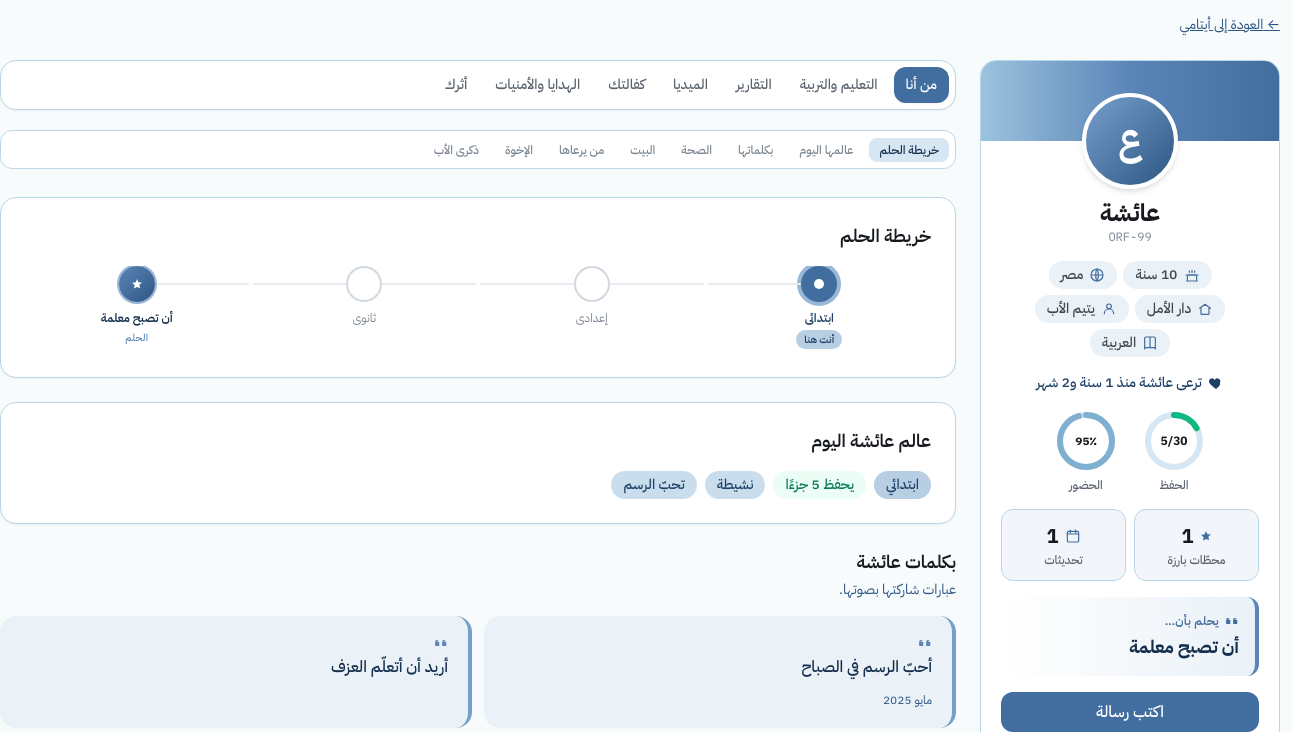
Test case: DonorOrphanDetailPage — composed donor profile › renders recent updates with the timeline link in the reports tab
Click the tab "التقارير" at [754, 85], box [724, 67, 784, 103]
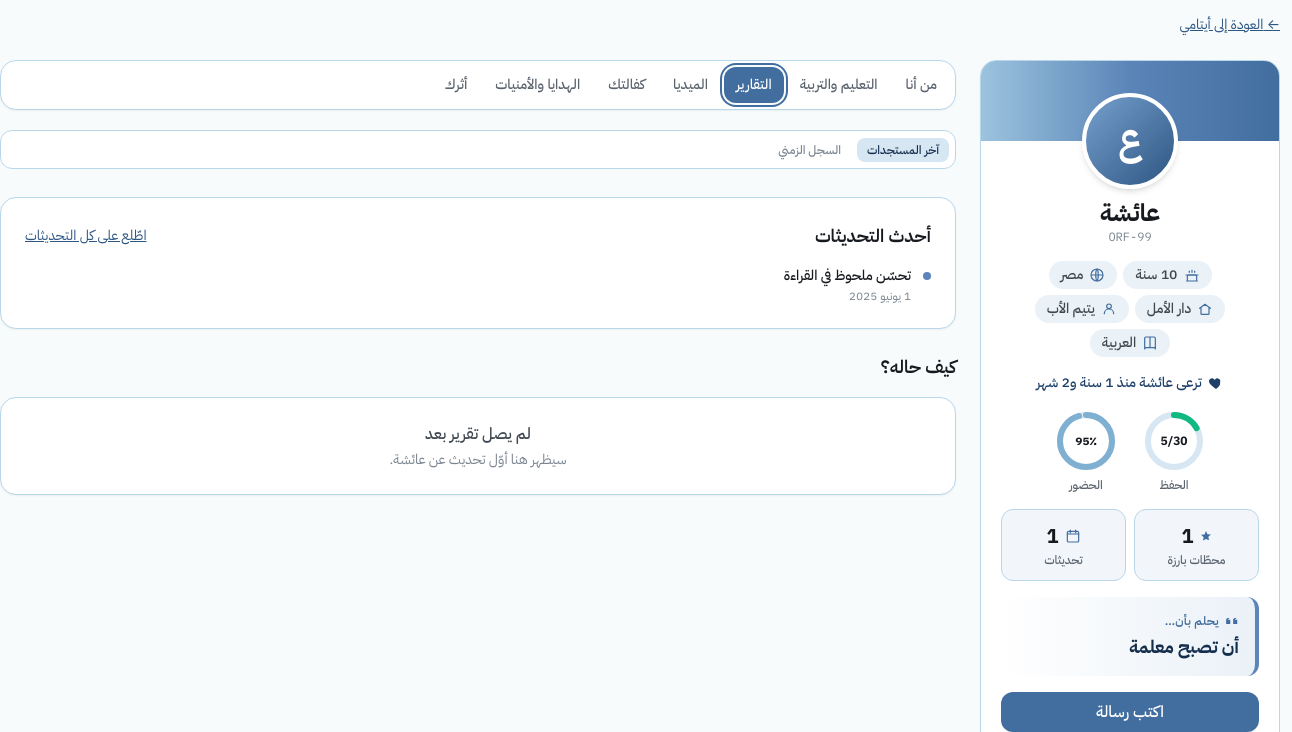
Check: the heading "أحدث التحديثات" is shown, box [815, 222, 931, 250]
Check: the text "تحسّن ملحوظ في القراءة" is shown, box [784, 266, 911, 286]
Check: the heading "كيف حاله؟" is shown, box [881, 353, 956, 380]
